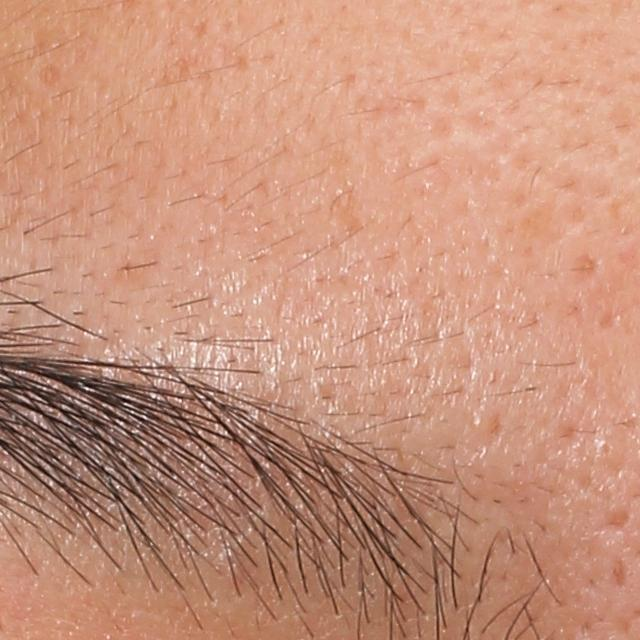atrophic_scar: (563, 253, 605, 291), (611, 554, 627, 593), (603, 508, 632, 528)
comedo: (590, 439, 618, 462)
